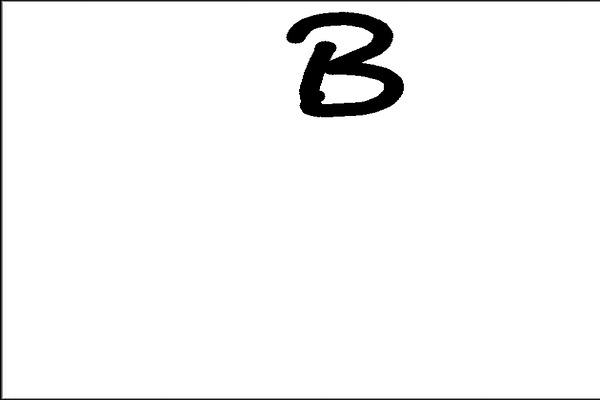B: (277, 4, 414, 124)
